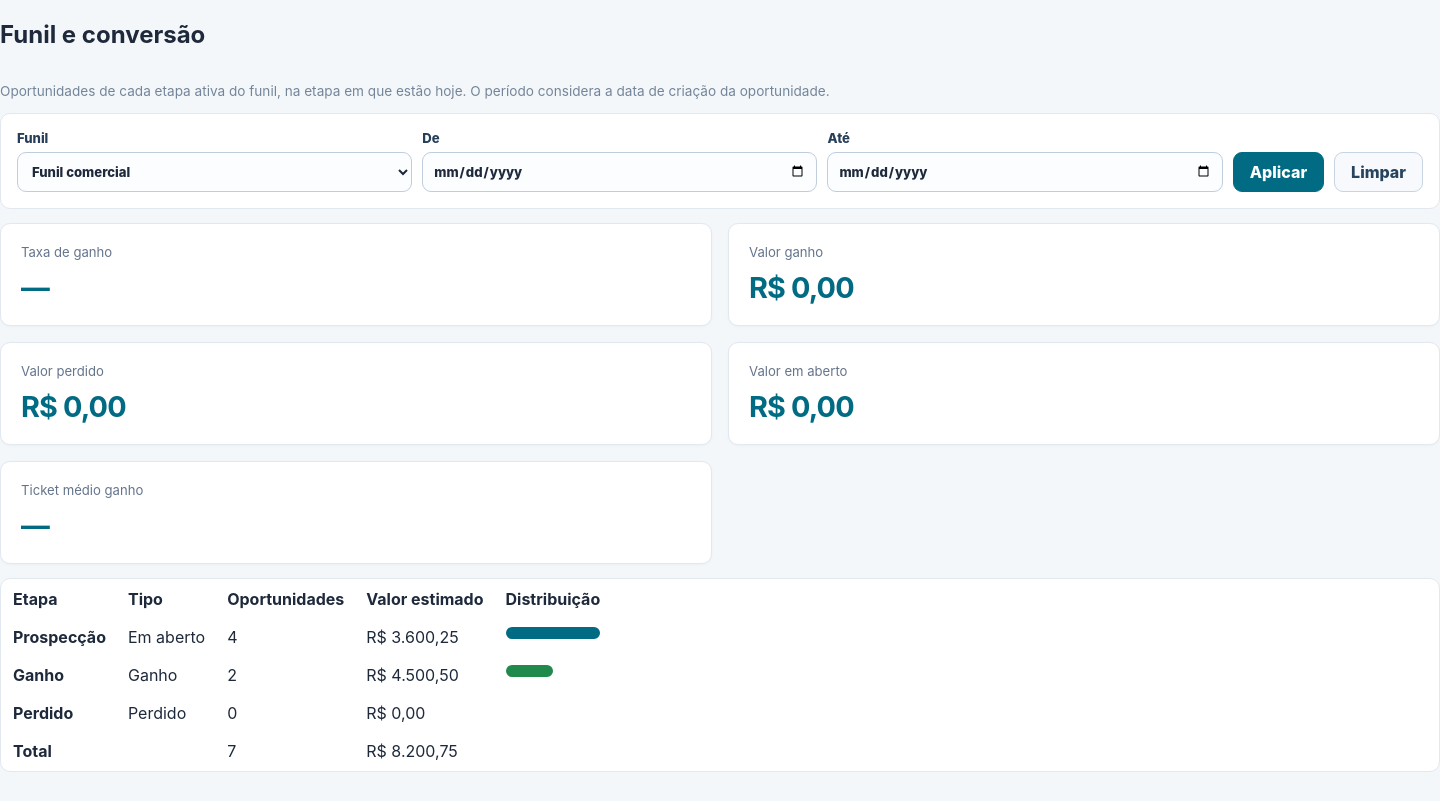
C4.4.2 funnel view › rejects an inverted period and shows null indicators as a dash
This screenshot has width=1440, height=801.
Expected: the table is shown, x1=1 y1=579 x2=612 y2=771
Expected: the text "—" is shown 2 times, x1=21 y1=270 x2=49 y2=305; x1=21 y1=508 x2=49 y2=543
Step 1. Type "2026-09-30" into the date field labelled "De" → (620, 172), box x1=422 y1=152 x2=817 y2=192
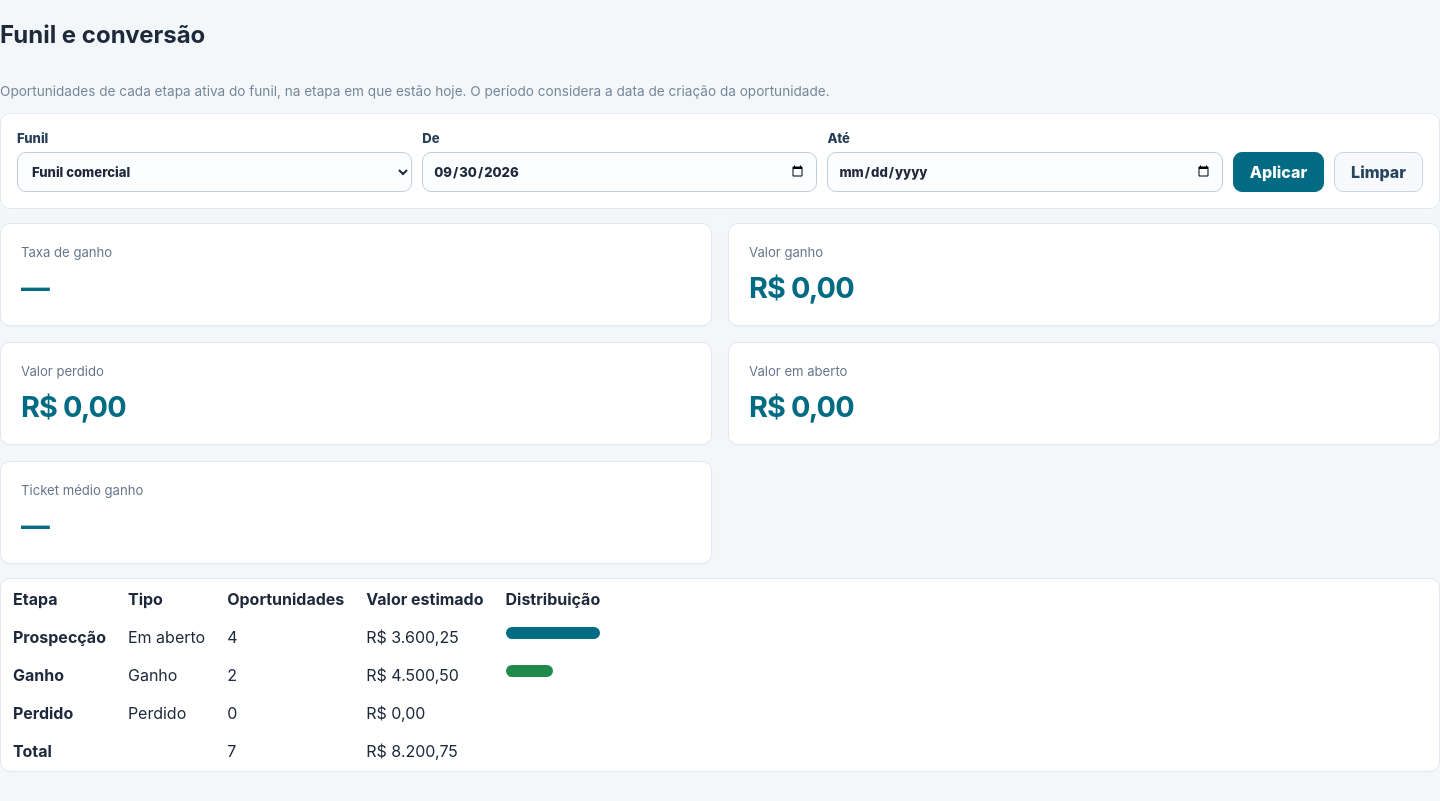
Step 2. Type "2026-09-01" into the date field labelled "Até" → (1025, 172), box x1=828 y1=152 x2=1223 y2=192
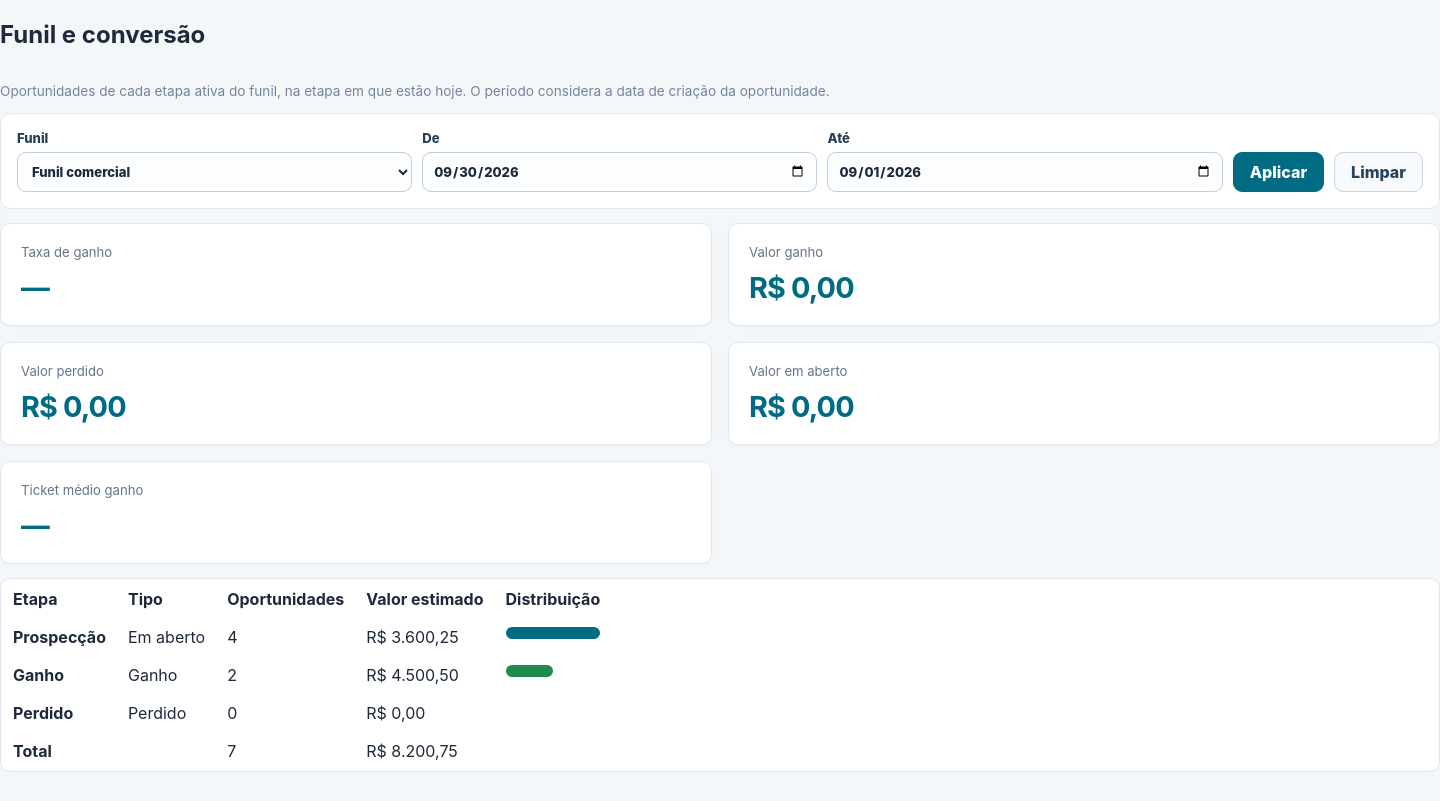
Step 3. Click the button "Aplicar" → (1278, 172), box x1=1233 y1=152 x2=1324 y2=192
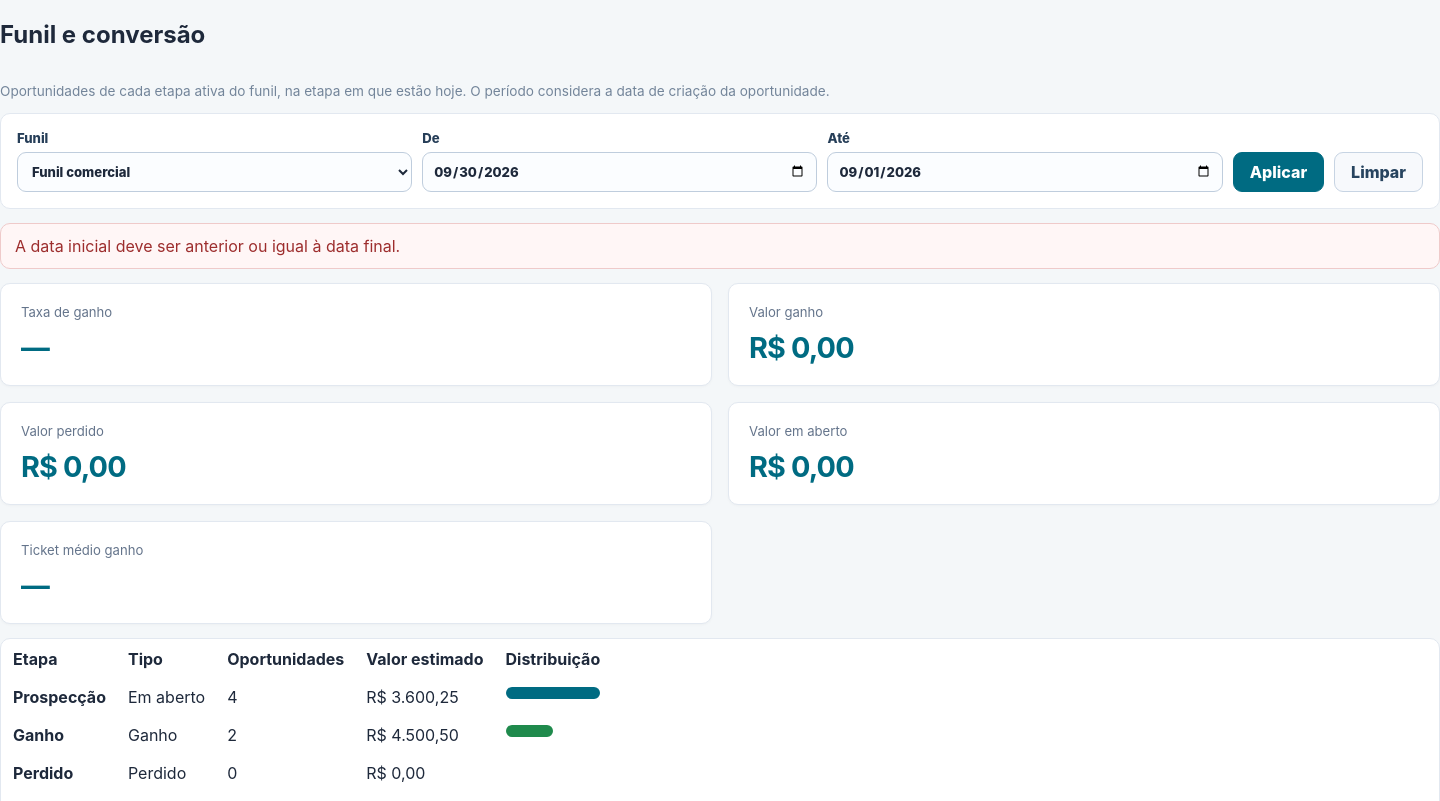
Result: the message reads "A data inicial deve ser anterior ou igual à data final." at x1=15 y1=236 x2=400 y2=256
